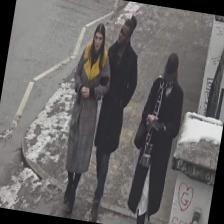person: (80, 12, 147, 224), (52, 20, 118, 216), (120, 49, 190, 224)
